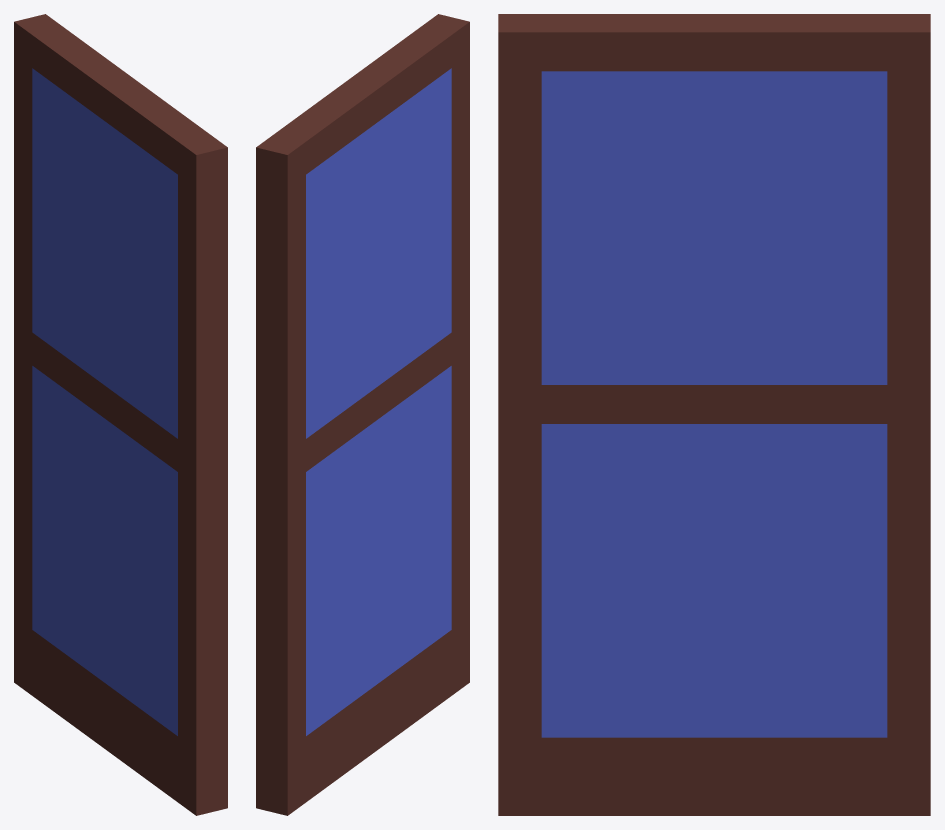
Rendered from anta_armadietto.gltf.
3 views of the same model, side by side, from view 1: azimuth 30°, elevation 25°; view 2: azimuth 150°, elevation 25°; view 3: azimuth 270°, elevation 25° (orthographic). The views are drawn at different scales.
Parts seen in each view (by area): view 1: Layer.2, Layer.1; view 2: Layer.2, Layer.1; view 3: Layer.2, Layer.1.
Boxes of the visible parts, x1,y1,x2,y2 form: Layer.2: [32, 68, 177, 735]; Layer.1: [14, 14, 227, 815]; Layer.2: [306, 68, 451, 735]; Layer.1: [256, 14, 469, 815]; Layer.2: [541, 71, 887, 737]; Layer.1: [498, 14, 930, 815].
Size of the model in its own units: 1 by 20 by 10.
1 material, 1 textured.
